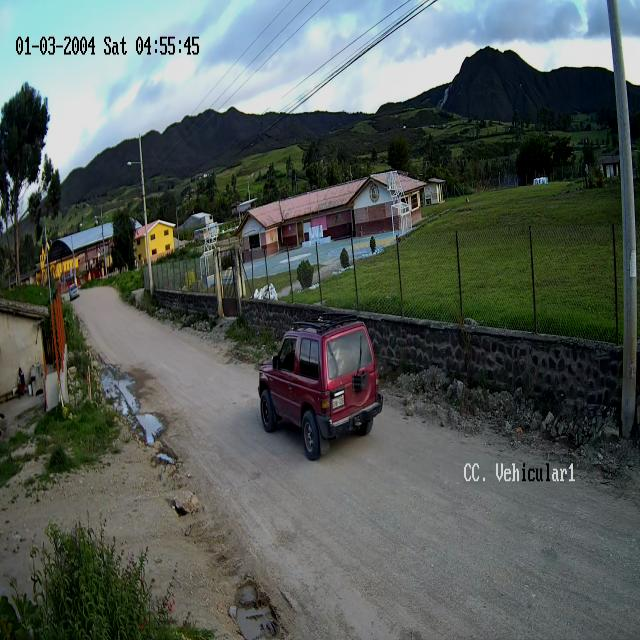SUV: (258, 322, 382, 460)
